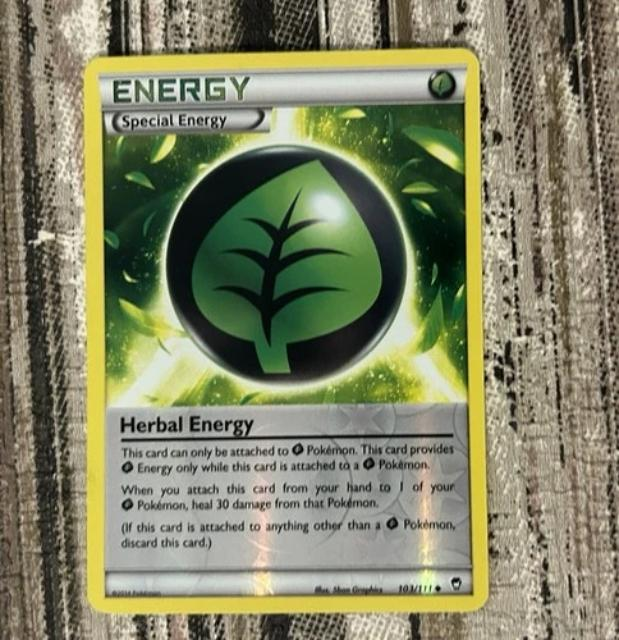Card: (77, 41, 495, 620)
Name: (106, 409, 262, 440)
